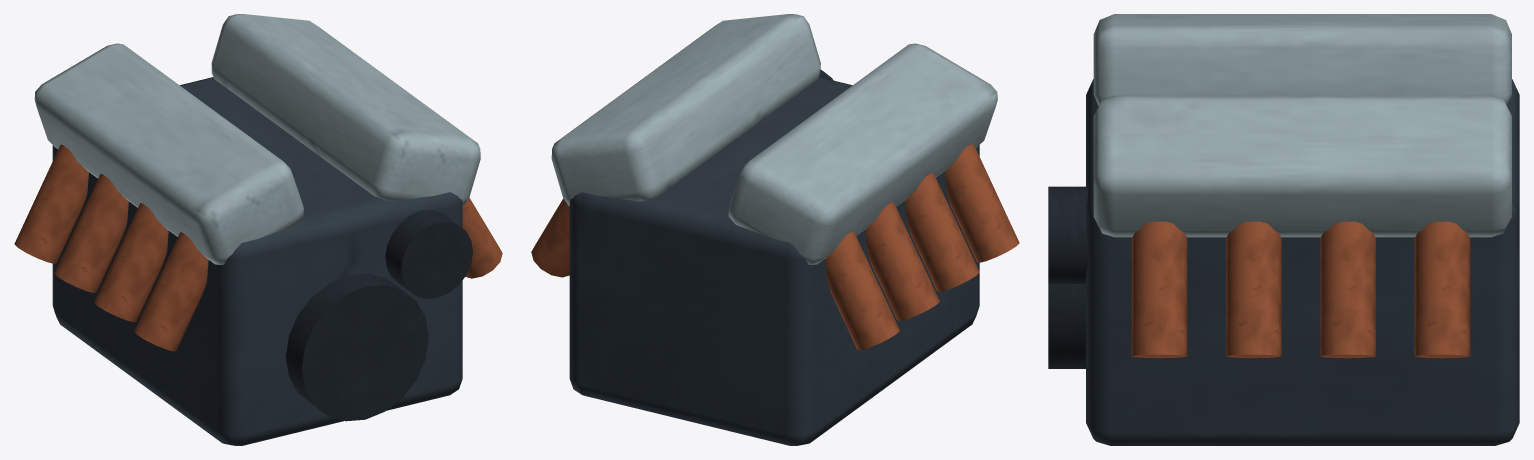
File: EngineBlock.glb
3 renders of one model, left to right at view 1: azimuth 30°, elevation 25°; view 2: azimuth 150°, elevation 25°; view 3: azimuth 270°, elevation 25°, orthographic. The views are drawn at different scales.
Visible parts, largest first — view 1: Block, Rocker cover, Rocker cover.001, Pulley, Pulley.001, Exhaust runner.002, Exhaust runner, Exhaust runner.003, Exhaust runner.001, Exhaust runner.004; view 2: Block, Rocker cover, Rocker cover.001, Exhaust runner, Exhaust runner.001, Exhaust runner.002, Exhaust runner.003, Exhaust runner.007; view 3: Block, Rocker cover.001, Rocker cover, Exhaust runner.004, Exhaust runner.007, Exhaust runner.005, Exhaust runner.006, Pulley.001, Pulley.
Part boxes in pixels (<box>): Block: <box>52,77,462,445</box>; Rocker cover: <box>34,43,303,265</box>; Rocker cover.001: <box>211,14,480,205</box>; Pulley: <box>286,273,428,421</box>; Pulley.001: <box>385,210,472,298</box>; Exhaust runner.002: <box>54,174,128,293</box>; Exhaust runner: <box>134,232,208,351</box>; Exhaust runner.003: <box>14,144,88,263</box>; Exhaust runner.001: <box>94,203,168,322</box>; Exhaust runner.004: <box>462,198,502,278</box>; Block: <box>569,77,979,445</box>; Rocker cover: <box>728,43,997,264</box>; Rocker cover.001: <box>551,14,820,206</box>; Exhaust runner: <box>945,143,1019,262</box>; Exhaust runner.001: <box>905,172,979,291</box>; Exhaust runner.002: <box>865,202,939,321</box>; Exhaust runner.003: <box>825,231,899,350</box>; Exhaust runner.007: <box>531,198,569,277</box>; Block: <box>1086,79,1519,445</box>; Rocker cover.001: <box>1093,95,1511,237</box>; Rocker cover: <box>1093,14,1511,105</box>; Exhaust runner.004: <box>1131,221,1187,358</box>; Exhaust runner.007: <box>1414,221,1470,358</box>; Exhaust runner.005: <box>1226,221,1281,358</box>; Exhaust runner.006: <box>1320,221,1375,358</box>; Pulley.001: <box>1048,186,1088,283</box>; Pulley: <box>1048,284,1085,368</box>.
Bounding box in the file's own units: 1.31 × 0.9432 × 1.25.
Materials: 4 (4 with a texture image).
